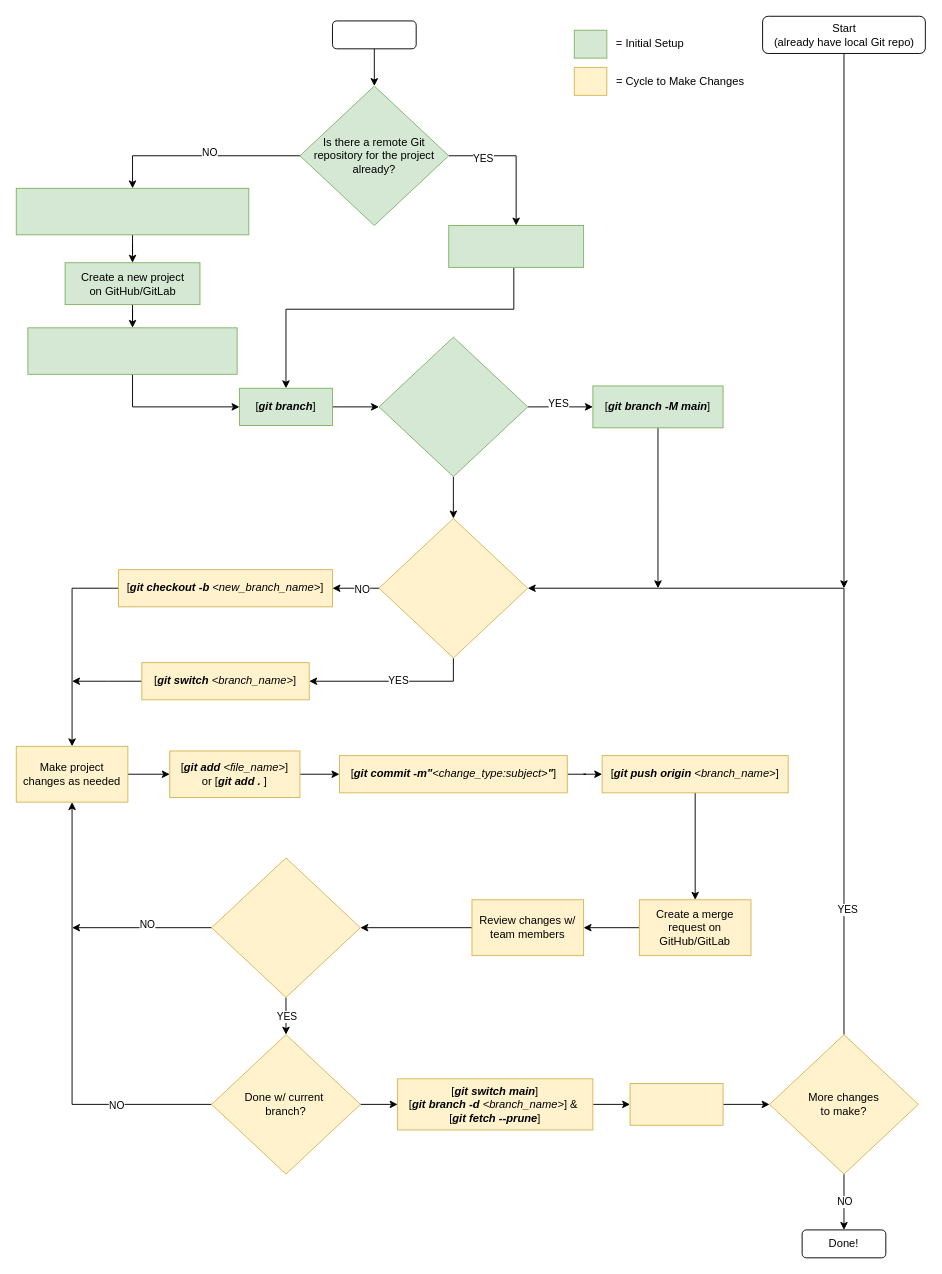
Some shapes in this 942 by 1274 pixel diagram are drawn without their labels. The centre of each missing label's shape, as x and y in pixels:
[ git clone <project_url> ]: (516,246)
[ git fetch ] [ git merge ]: (676,1104)
[ git init <new_folder_name_for_project> ]: (132,211)
[ git remote add origin <project_url> ]: (132,350)
Are you on "master" branch while the remote repo uses "main"?: (453,406)
Does the branch you need to work on exist yet?: (453,588)
Fresh Start: (374,34)
New change good to go?: (285,927)
